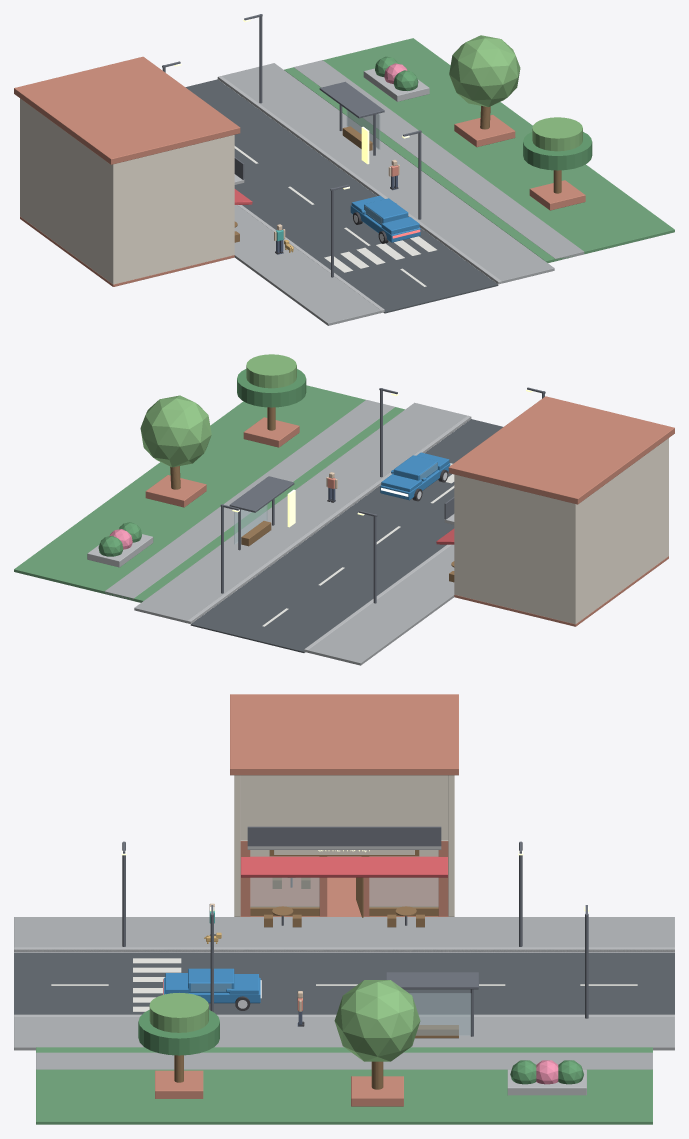
Rendered from vertical_slice_city_block.glb.
The picture shows the model from 3 angles, top to bottom: view 1: azimuth 30°, elevation 25°; view 2: azimuth 150°, elevation 25°; view 3: azimuth 270°, elevation 25°; orthographic projection. The views are drawn at different scales.
Visible parts, largest first — view 1: Road_Asphalt_Main, Park_Grass_Lawn, Cafe_Wall_South, Sidewalk_East, Cafe_Roof_Slab, Cafe_Wall_Back, Park_Walking_Path, Sidewalk_West, Tree_Dome_Crown_02, Curb_East, Tree_Layered_CanopyA_01, Tree_Layered_CanopyB_01 (+9 smaller); view 2: Road_Asphalt_Main, Park_Grass_Lawn, Cafe_Wall_North, Sidewalk_East, Cafe_Roof_Slab, Cafe_Wall_Back, Sidewalk_West, Park_Walking_Path, Tree_Dome_Crown_02, Tree_Layered_CanopyA_01, Curb_East, Tree_Layered_CanopyB_01 (+9 smaller); view 3: Road_Asphalt_Main, Park_Grass_Lawn, Sidewalk_West, Cafe_Roof_Slab, Sidewalk_East, Cafe_UpperFloor_Facade, Park_Walking_Path, Tree_Dome_Crown_02, Cafe_Floor_Slab, Cafe_Awning_Canopy, Cafe_UpperFloor_Railing, Curb_West (+15 smaller).
Part boxes in pixels (bbox=[...]): Road_Asphalt_Main: bbox=[185, 79, 498, 313]; Park_Grass_Lawn: bbox=[284, 38, 674, 262]; Cafe_Wall_South: bbox=[110, 135, 234, 283]; Sidewalk_East: bbox=[217, 63, 554, 284]; Cafe_Roof_Slab: bbox=[14, 56, 240, 164]; Cafe_Wall_Back: bbox=[22, 100, 117, 284]; Park_Walking_Path: bbox=[293, 60, 584, 259]; Sidewalk_West: bbox=[234, 205, 384, 325]; Tree_Dome_Crown_02: bbox=[449, 35, 520, 107]; Curb_East: bbox=[218, 76, 501, 284]; Tree_Layered_CanopyA_01: bbox=[523, 132, 592, 170]; Tree_Layered_CanopyB_01: bbox=[532, 117, 582, 151]; Road_Asphalt_Main: bbox=[190, 419, 502, 652]; Park_Grass_Lawn: bbox=[14, 385, 404, 602]; Cafe_Wall_North: bbox=[454, 474, 578, 623]; Sidewalk_East: bbox=[134, 402, 471, 623]; Cafe_Roof_Slab: bbox=[448, 396, 674, 504]; Cafe_Wall_Back: bbox=[571, 438, 668, 624]; Sidewalk_West: bbox=[305, 544, 454, 665]; Park_Walking_Path: bbox=[105, 400, 394, 600]; Tree_Dome_Crown_02: bbox=[140, 395, 211, 467]; Tree_Layered_CanopyA_01: bbox=[237, 369, 306, 407]; Curb_East: bbox=[187, 415, 470, 623]; Tree_Layered_CanopyB_01: bbox=[246, 354, 296, 388]; Road_Asphalt_Main: bbox=[14, 952, 674, 1014]; Park_Grass_Lawn: bbox=[36, 1047, 652, 1124]; Sidewalk_West: bbox=[14, 917, 674, 952]; Cafe_Roof_Slab: bbox=[230, 694, 458, 775]; Sidewalk_East: bbox=[14, 1016, 674, 1050]; Cafe_UpperFloor_Facade: bbox=[240, 775, 448, 840]; Park_Walking_Path: bbox=[36, 1052, 652, 1069]; Tree_Dome_Crown_02: bbox=[334, 980, 420, 1061]; Cafe_Floor_Slab: bbox=[240, 877, 448, 916]; Cafe_Awning_Canopy: bbox=[241, 856, 447, 877]; Cafe_UpperFloor_Railing: bbox=[247, 826, 441, 846]; Curb_West: bbox=[14, 947, 674, 952].
Bounding box in the file's own units: 29.75 × 7.78 × 30.
